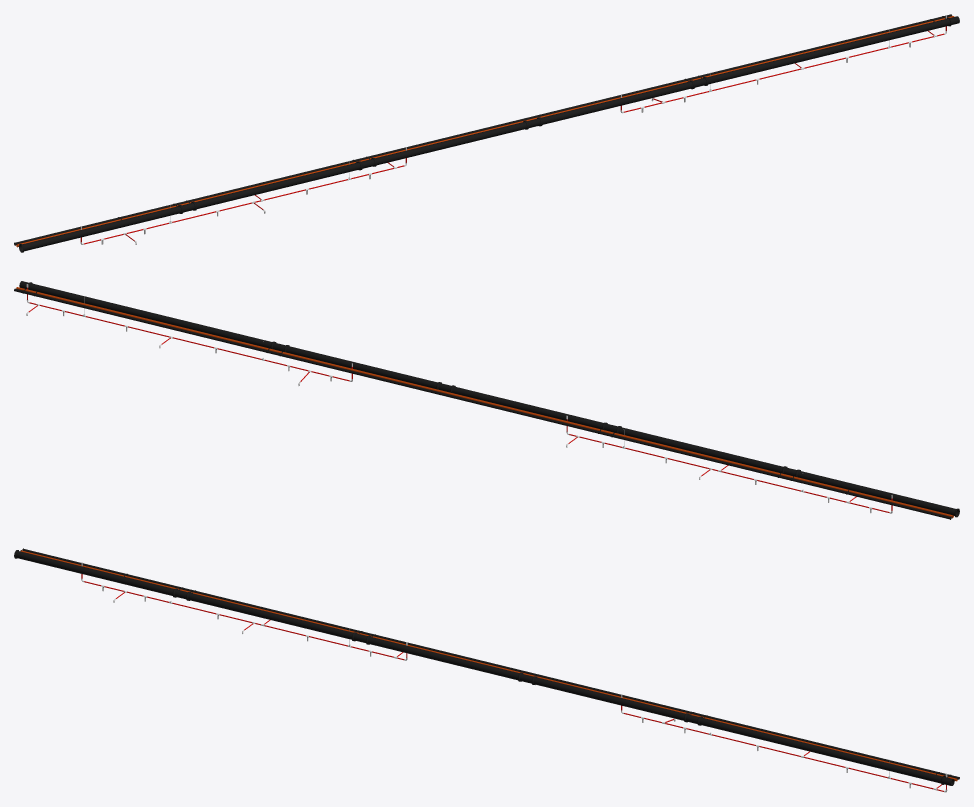
File: SM_H_Building_Tide_OfficeLobby_01A_ATLAS.fbx
The picture shows the model from 3 angles, top to bottom: view 1: azimuth 30°, elevation 25°; view 2: azimuth 150°, elevation 25°; view 3: azimuth 330°, elevation 25°; orthographic projection.
Visible parts, largest first — view 1: SM_H_Building_Tide_OfficeLobby_01A_ATLAS; view 2: SM_H_Building_Tide_OfficeLobby_01A_ATLAS; view 3: SM_H_Building_Tide_OfficeLobby_01A_ATLAS.
Part boxes in pixels (left/top/right/bottom): SM_H_Building_Tide_OfficeLobby_01A_ATLAS: left=14, top=14, right=959, bottom=252; SM_H_Building_Tide_OfficeLobby_01A_ATLAS: left=14, top=281, right=959, bottom=519; SM_H_Building_Tide_OfficeLobby_01A_ATLAS: left=14, top=548, right=959, bottom=792.
Size of the model in its own units: 6139 by 269 by 156.
